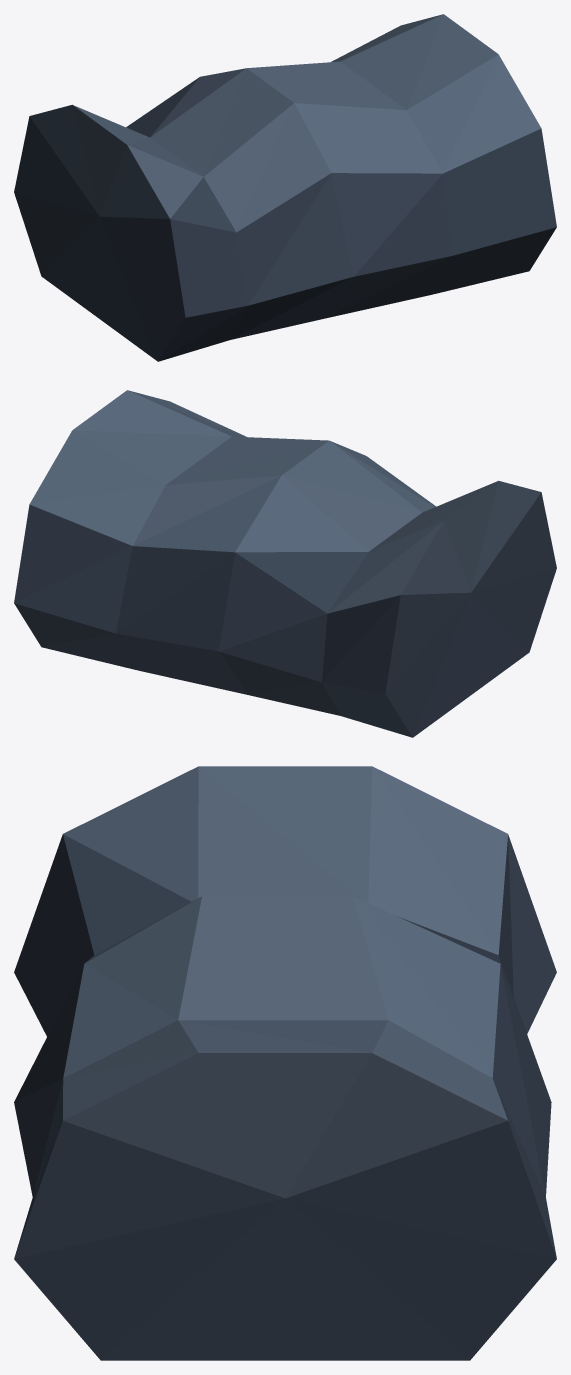
The model's file is ledge_z2_rock_mid.glb.
3 renders of one model, top to bottom at view 1: azimuth 30°, elevation 25°; view 2: azimuth 150°, elevation 25°; view 3: azimuth 270°, elevation 25°, orthographic. The views are drawn at different scales.
Visible parts, largest first — view 1: ledge_z2_rock_mid; view 2: ledge_z2_rock_mid; view 3: ledge_z2_rock_mid.
Boxes of the visible parts, box(x1,y1,x2,y2) form: ledge_z2_rock_mid: box(14, 14, 556, 361); ledge_z2_rock_mid: box(14, 390, 556, 737); ledge_z2_rock_mid: box(14, 766, 556, 1360).
Bounding box in the file's own units: 2 × 1 × 1.6.
